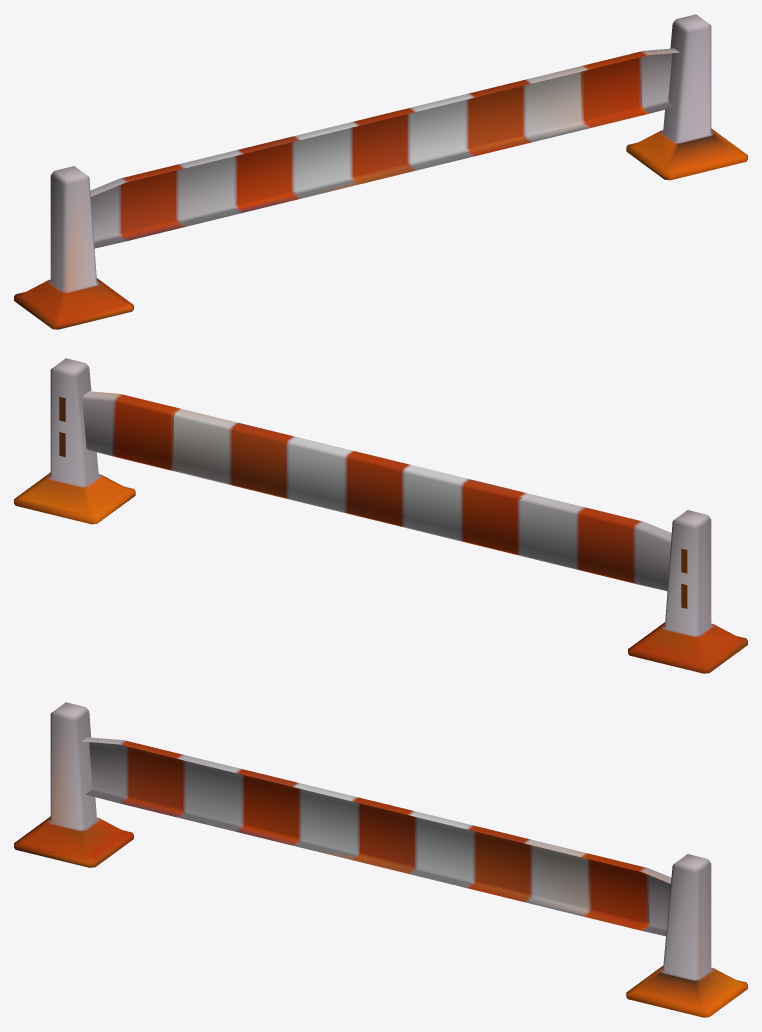
The model's file is ObstacleRoadWorksBarrier.fbx.
3 renders of one model, top to bottom at view 1: azimuth 30°, elevation 25°; view 2: azimuth 150°, elevation 25°; view 3: azimuth 330°, elevation 25°, orthographic.
Visible parts, largest first — view 1: RoadWorksBarrierLow; view 2: RoadWorksBarrierLow; view 3: RoadWorksBarrierLow.
Boxes of the visible parts, x1,y1,x2,y2 form: RoadWorksBarrierLow: (14,14,747,329); RoadWorksBarrierLow: (14,358,747,673); RoadWorksBarrierLow: (14,702,747,1017).
Size of the model in its own units: 402 by 73.62 by 42.57.
